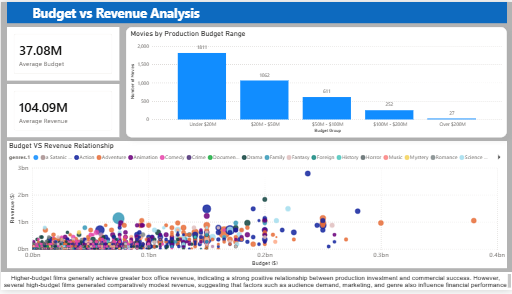

Layout of this report page (visuals, bound fields, positions):
{"tool":"powerbi","page":{"name":"Budget vs Revenue","canvas":[1280,720],"ordinal":1},"visuals":[{"type":"scatterChart","title":"Budget VS Revenue Relationship","fields":{"X":["tmdb_processed.budget"],"Size":["Sum(tmdb_processed.popularity)"],"Series":["tmdb_processed.genres.1"],"Y":["tmdb_processed.revenue (bins)"]},"box":[14.3,347,1250,318],"z":0},{"type":"textbox","box":[0,675,1280,45],"z":1000},{"type":"textbox","box":[15,0,1250,52.5],"z":2000},{"type":"cardVisual","fields":{"Data":["tmdb_processed.Average Budget"]},"box":[14.3,61.9,281,134],"z":3000},{"type":"cardVisual","fields":{"Data":["tmdb_processed.Average Revenue"]},"box":[14.3,204.8,281,133.3],"z":4000},{"type":"clusteredColumnChart","title":"Movies by Production Budget Range","fields":{"Category":["tmdb_processed.Budget Group"],"Y":["CountNonNull(tmdb_processed.title)"]},"box":[311.9,61.9,952.4,276.2],"z":5000}]}

Visuals, with their boxes in screenshot pixels (x1, y1, x2, y2), scaled from the page's 1280x720 canvas onto the 512x294 screenshot:
"Budget VS Revenue Relationship" scatterChart: l=6, t=142, r=506, b=272
textbox: l=0, t=276, r=511, b=293
textbox: l=6, t=0, r=506, b=21
cardVisual - tmdb_processed.Average Budget: l=6, t=25, r=118, b=80
cardVisual - tmdb_processed.Average Revenue: l=6, t=84, r=118, b=138
"Movies by Production Budget Range" clusteredColumnChart: l=125, t=25, r=506, b=138
